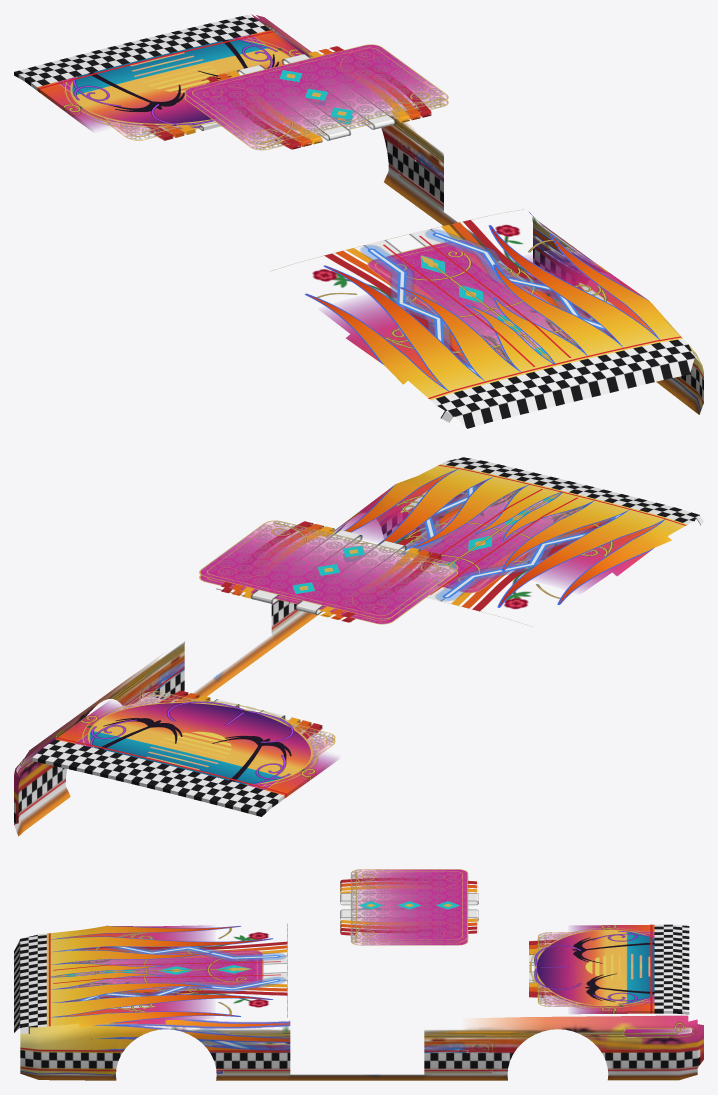
File: MarloweDeville61Vinyls.glb
The picture shows the model from 3 angles, top to bottom: view 1: azimuth 30°, elevation 25°; view 2: azimuth 150°, elevation 25°; view 3: azimuth 270°, elevation 25°; orthographic projection. The views are drawn at different scales.
Visible parts, largest first — view 1: MarloweDeville61Livery_flames_hood, MarloweDeville61Livery_patterns_roof, MarloweDeville61Livery_checker_hood, MarloweDeville61Livery_purple_lace_roof, MarloweDeville61Livery_mural_trunk, MarloweDeville61Livery_patterns_hood, MarloweDeville61Livery_checker_trunk, MarloweDeville61Livery_lightning_hood, MarloweDeville61Livery_sunset_fade_hood, MarloweDeville61Livery_purple_lace_hood, MarloweDeville61Livery_retro_waves_hood, MarloweDeville61Livery_retro_waves_roof (+16 smaller); view 2: MarloweDeville61Livery_patterns_roof, MarloweDeville61Livery_flames_hood, MarloweDeville61Livery_mural_trunk, MarloweDeville61Livery_purple_lace_roof, MarloweDeville61Livery_checker_trunk, MarloweDeville61Livery_patterns_hood, MarloweDeville61Livery_checker_hood, MarloweDeville61Livery_sunset_fade_hood, MarloweDeville61Livery_retro_waves_roof, MarloweDeville61Livery_purple_lace_hood, MarloweDeville61Livery_lightning_hood, MarloweDeville61Livery_checker_side (+16 smaller); view 3: MarloweDeville61Livery_flames_hood, MarloweDeville61Livery_patterns_roof, MarloweDeville61Livery_mural_trunk, MarloweDeville61Livery_checker_side, MarloweDeville61Livery_purple_lace_roof, MarloweDeville61Livery_flames_side, MarloweDeville61Livery_tropical_side, MarloweDeville61Livery_patterns_hood, MarloweDeville61Livery_checker_hood, MarloweDeville61Livery_checker_trunk, MarloweDeville61Livery_sunset_fade_side, MarloweDeville61Livery_retro_waves_side (+23 smaller).
Part boxes in pixels (box(x1,y1,x2,y2)): MarloweDeville61Livery_flames_hood: box(304, 225, 682, 400); MarloweDeville61Livery_patterns_roof: box(184, 44, 448, 150); MarloweDeville61Livery_checker_hood: box(383, 236, 698, 428); MarloweDeville61Livery_purple_lace_roof: box(188, 48, 445, 149); MarloweDeville61Livery_mural_trunk: box(63, 37, 301, 130); MarloweDeville61Livery_patterns_hood: box(367, 239, 577, 364); MarloweDeville61Livery_checker_trunk: box(14, 15, 273, 92); MarloweDeville61Livery_lightning_hood: box(360, 229, 611, 373); MarloweDeville61Livery_sunset_fade_hood: box(326, 252, 654, 386); MarloweDeville61Livery_purple_lace_hood: box(409, 252, 575, 362); MarloweDeville61Livery_retro_waves_hood: box(324, 220, 615, 365); MarloweDeville61Livery_retro_waves_roof: box(201, 46, 431, 149); MarloweDeville61Livery_patterns_roof: box(199, 520, 457, 624); MarloweDeville61Livery_flames_hood: box(344, 464, 687, 607); MarloweDeville61Livery_mural_trunk: box(81, 699, 317, 787); MarloweDeville61Livery_purple_lace_roof: box(205, 521, 457, 620); MarloweDeville61Livery_checker_trunk: box(32, 737, 286, 816); MarloweDeville61Livery_patterns_hood: box(406, 490, 585, 592); MarloweDeville61Livery_checker_hood: box(430, 457, 703, 594); MarloweDeville61Livery_sunset_fade_hood: box(338, 472, 659, 589); MarloweDeville61Livery_retro_waves_roof: box(216, 521, 441, 622); MarloweDeville61Livery_purple_lace_hood: box(427, 490, 583, 576); MarloweDeville61Livery_lightning_hood: box(400, 483, 621, 600); MarloweDeville61Livery_checker_side: box(14, 515, 404, 825); MarloweDeville61Livery_flames_hood: box(46, 925, 272, 1027); MarloweDeville61Livery_patterns_roof: box(351, 869, 467, 945); MarloweDeville61Livery_mural_trunk: box(530, 925, 654, 1013); MarloweDeville61Livery_checker_side: box(20, 1046, 701, 1071); MarloweDeville61Livery_purple_lace_roof: box(351, 870, 467, 944); MarloweDeville61Livery_flames_side: box(20, 1019, 677, 1075); MarloweDeville61Livery_tropical_side: box(475, 1015, 703, 1054); MarloweDeville61Livery_patterns_hood: box(56, 950, 262, 990); MarloweDeville61Livery_checker_hood: box(14, 924, 287, 1033); MarloweDeville61Livery_checker_trunk: box(650, 924, 689, 1014); MarloweDeville61Livery_sunset_fade_side: box(20, 1031, 703, 1080); MarloweDeville61Livery_retro_waves_side: box(135, 1029, 703, 1061).
Bounding box in the file's own units: 7.57 × 4.49 × 22.2.
50 materials, 50 textured.
